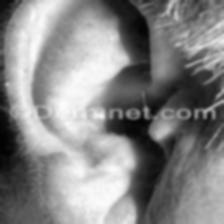Potentially Malignant Skin Tumors: (78, 100, 112, 126)
